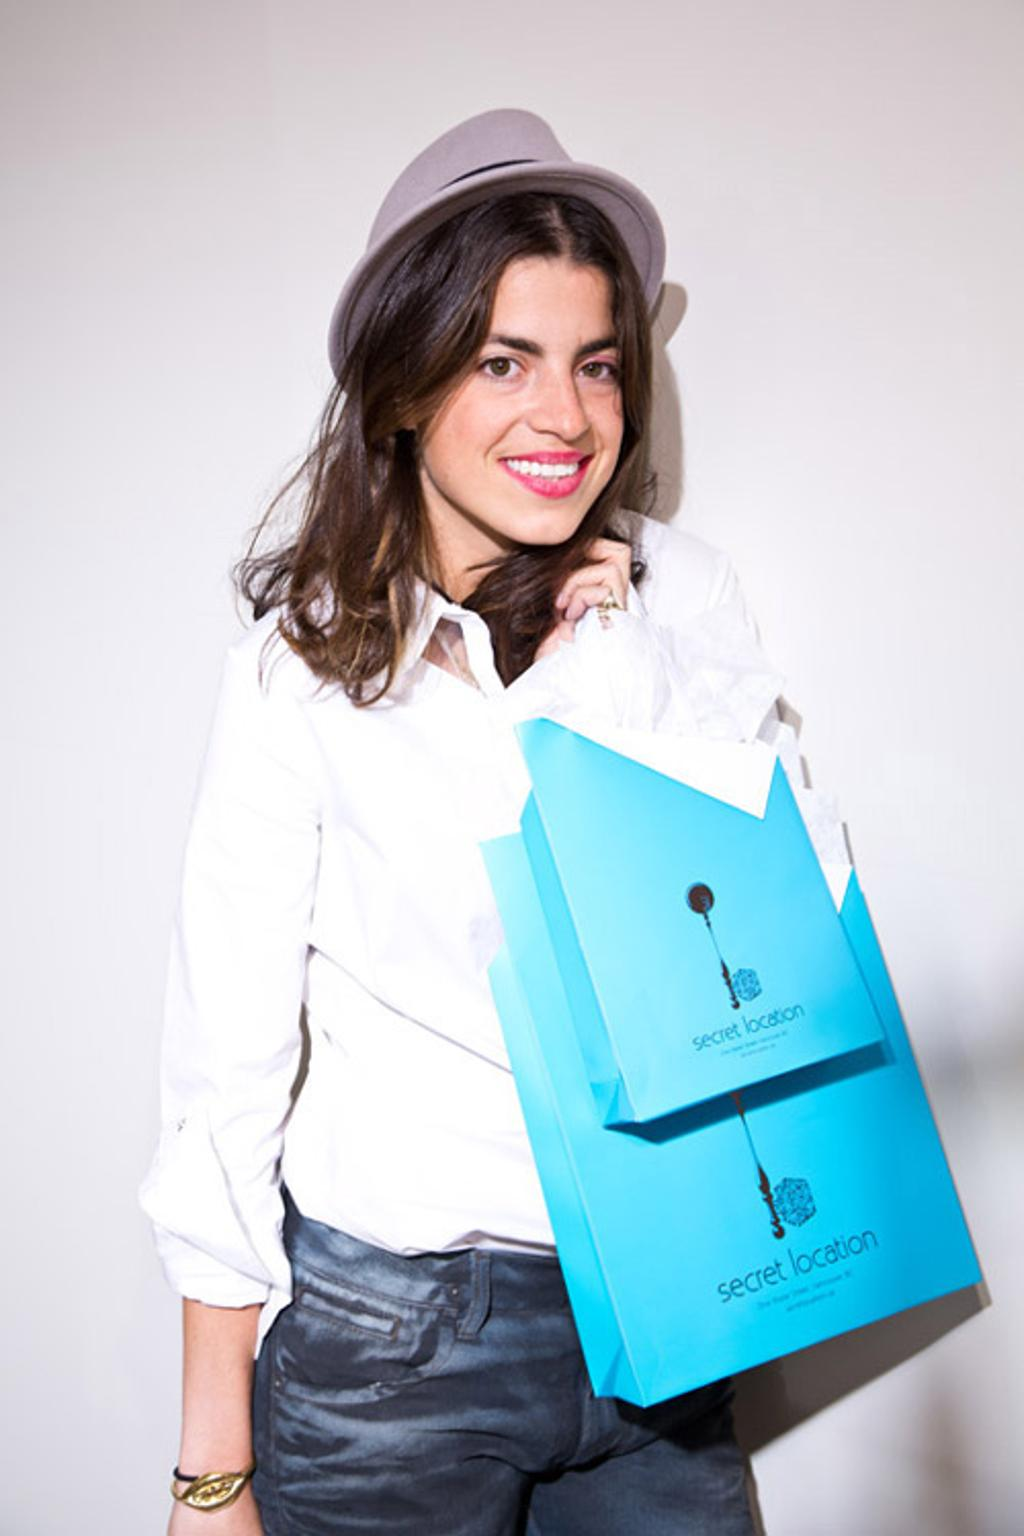face: (420, 252, 624, 540)
